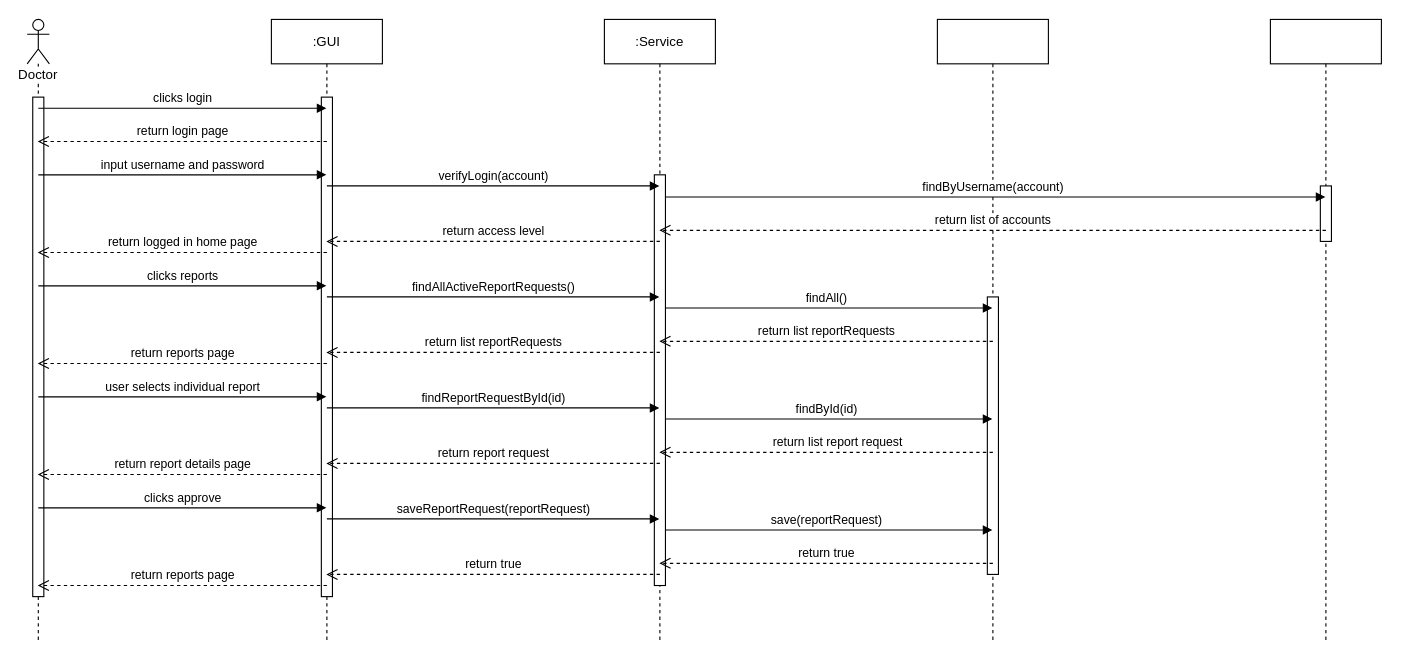
The diagram is 1401 pixels wide and 660 high, and some of its shapes have lost their labels. Here are the shapes that lost their labels. From the top down, the box of each, then its label:
(936, 18, 1048, 641): :Reports DAO
(1269, 18, 1381, 641): :Account DAO
